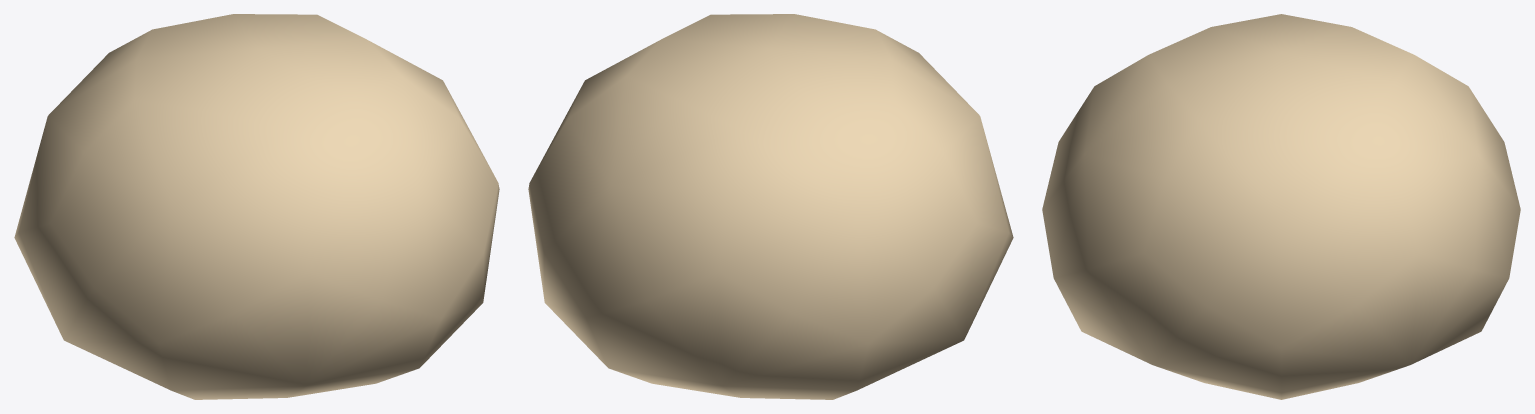
File: Pizza Dough .fbx
3 views of the same model, side by side, from view 1: azimuth 30°, elevation 25°; view 2: azimuth 150°, elevation 25°; view 3: azimuth 270°, elevation 25° (orthographic). The views are drawn at different scales.
Visible parts, largest first — view 1: Icosphere; view 2: Icosphere; view 3: Icosphere.
Boxes of the visible parts, x1,y1,x2,y2 form: Icosphere: (14, 14, 499, 399); Icosphere: (528, 14, 1013, 399); Icosphere: (1042, 14, 1520, 399).
Size of the model in its own units: 155 by 106 by 157.
